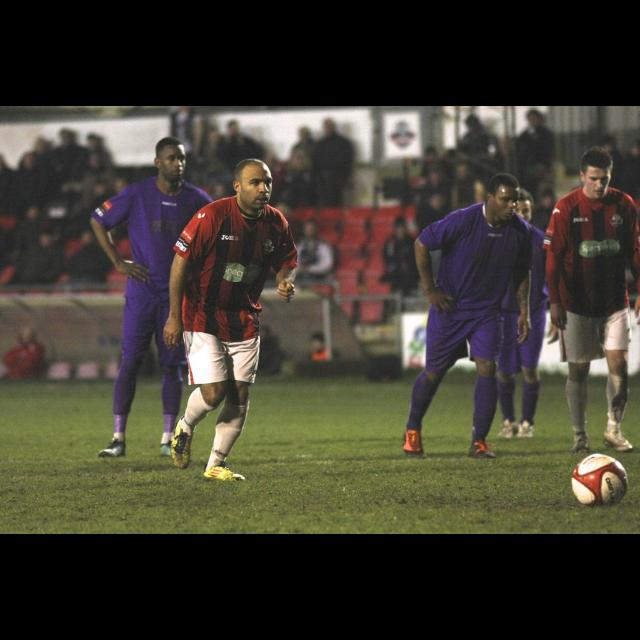Football: (570, 452, 628, 510)
